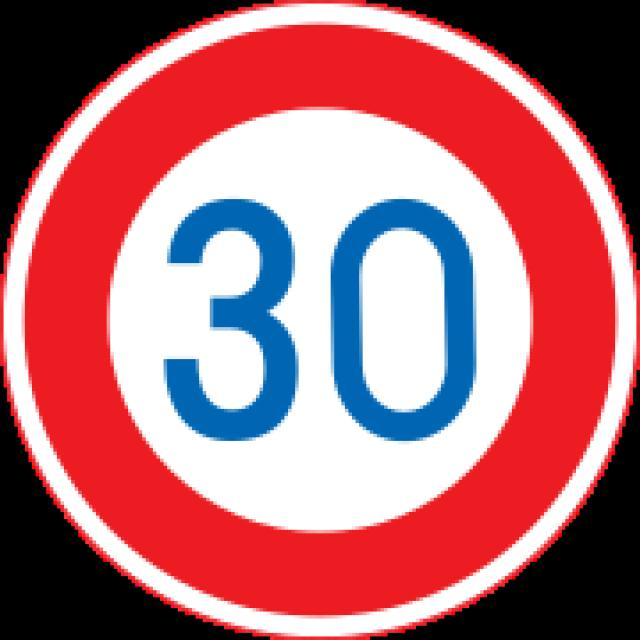Speed Limit -30-: (162, 199, 474, 446)
